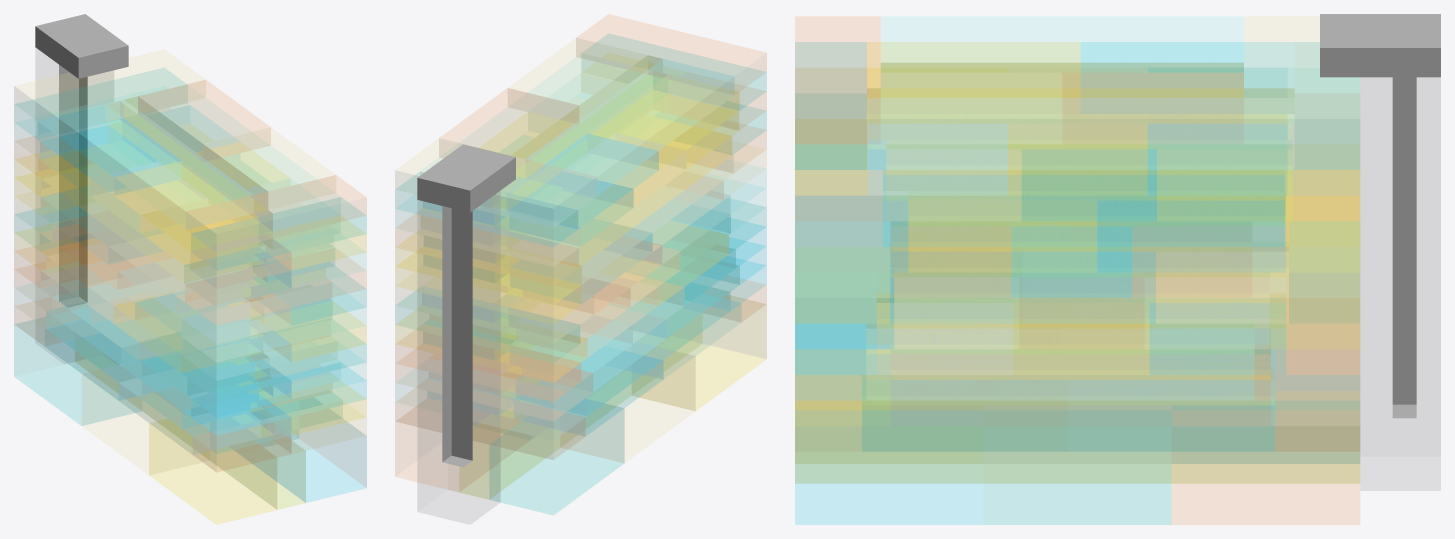
3 renders of one model, left to right at view 1: azimuth 30°, elevation 25°; view 2: azimuth 150°, elevation 25°; view 3: azimuth 270°, elevation 25°, orthographic. The views are drawn at different scales.
Parts seen in each view (by area): view 1: d6bcc796-8eb1-4275-b38c-7e1ae7b9081f, 39312863-c378-493c-ab47-adbc66ca83dc, 09ca25f9-c48a-4858-98ef-48218f22bfb5, 804fe2d3-644d-484e-a5a8-48df7c8f069e, 1cb9dffa-9140-4d39-8a2e-c1af6eddde46, 386f816b-cf43-49d8-a39e-41a9e235ea7f, ed6d6dc6-d384-403d-b9c6-eccdee08ae2e, 80eff2e0-196a-41a9-819a-aede1b1f4936, 09ee4b2f-a0ca-4d6d-b761-94ef8e5b71b7, 1bbbc076-2a21-4f47-8583-e8d5a2f533e4, 7970ebba-e139-4a52-92b2-1d9905a537d3, 2f60f142-cec5-430e-8371-8ec30528f1fe (+58 smaller); view 2: c1a381ad-1aca-42c7-b3f2-a8b5bd3cbd88, d6bcc796-8eb1-4275-b38c-7e1ae7b9081f, 2f60f142-cec5-430e-8371-8ec30528f1fe, 804fe2d3-644d-484e-a5a8-48df7c8f069e, 386f816b-cf43-49d8-a39e-41a9e235ea7f, ed6d6dc6-d384-403d-b9c6-eccdee08ae2e, 9db6b245-c1e5-4e94-bb24-9968bbcc9e62, 09ca25f9-c48a-4858-98ef-48218f22bfb5, 53e4c149-a1fc-42cb-9926-c9fa149d805c, 39312863-c378-493c-ab47-adbc66ca83dc, 80eff2e0-196a-41a9-819a-aede1b1f4936, 10a131d9-3317-4e59-9c11-94e98df846cb (+51 smaller); view 3: 28da632c-e8ac-496c-a448-f3cdc6eebb36, c1a381ad-1aca-42c7-b3f2-a8b5bd3cbd88, 0c4fc0ff-e170-487e-a579-40f05647c481, d6bcc796-8eb1-4275-b38c-7e1ae7b9081f, 4ef1046d-18e4-4ba9-abab-362bdab1b41c, 370e77a5-4c27-420a-8379-d809e4379d4d, 6de3195c-045e-43f1-87e4-a79d74b08657, 52638536-2ce4-413b-819f-79f3960046ff, a77ed0c8-b38b-4810-8638-82b72d0f5595, 36d8e450-8811-49c7-b480-f5eaed7d1f81, ed6d6dc6-d384-403d-b9c6-eccdee08ae2e, 80eff2e0-196a-41a9-819a-aede1b1f4936 (+53 smaller).
Part boxes in pixels (<box>): d6bcc796-8eb1-4275-b38c-7e1ae7b9081f: <box>56,100,253,228</box>; 39312863-c378-493c-ab47-adbc66ca83dc: <box>14,50,205,133</box>; 09ca25f9-c48a-4858-98ef-48218f22bfb5: <box>149,419,276,524</box>; 804fe2d3-644d-484e-a5a8-48df7c8f069e: <box>186,175,366,251</box>; 1cb9dffa-9140-4d39-8a2e-c1af6eddde46: <box>191,197,366,269</box>; 386f816b-cf43-49d8-a39e-41a9e235ea7f: <box>59,65,87,307</box>; ed6d6dc6-d384-403d-b9c6-eccdee08ae2e: <box>203,128,335,208</box>; 80eff2e0-196a-41a9-819a-aede1b1f4936: <box>138,80,270,156</box>; 09ee4b2f-a0ca-4d6d-b761-94ef8e5b71b7: <box>181,331,366,398</box>; 1bbbc076-2a21-4f47-8583-e8d5a2f533e4: <box>182,294,366,361</box>; 7970ebba-e139-4a52-92b2-1d9905a537d3: <box>185,257,366,324</box>; 2f60f142-cec5-430e-8371-8ec30528f1fe: <box>14,320,133,425</box>; c1a381ad-1aca-42c7-b3f2-a8b5bd3cbd88: <box>418,192,499,524</box>; d6bcc796-8eb1-4275-b38c-7e1ae7b9081f: <box>526,59,733,195</box>; 2f60f142-cec5-430e-8371-8ec30528f1fe: <box>490,404,623,514</box>; 804fe2d3-644d-484e-a5a8-48df7c8f069e: <box>576,14,766,94</box>; 386f816b-cf43-49d8-a39e-41a9e235ea7f: <box>442,206,472,467</box>; ed6d6dc6-d384-403d-b9c6-eccdee08ae2e: <box>508,38,647,122</box>; 9db6b245-c1e5-4e94-bb24-9968bbcc9e62: <box>588,79,738,169</box>; 09ca25f9-c48a-4858-98ef-48218f22bfb5: <box>640,300,766,410</box>; 53e4c149-a1fc-42cb-9926-c9fa149d805c: <box>569,352,694,462</box>; 39312863-c378-493c-ab47-adbc66ca83dc: <box>395,138,596,227</box>; 80eff2e0-196a-41a9-819a-aede1b1f4936: <box>439,88,578,159</box>; 10a131d9-3317-4e59-9c11-94e98df846cb: <box>507,134,658,228</box>; 28da632c-e8ac-496c-a448-f3cdc6eebb36: <box>867,98,1293,169</box>; c1a381ad-1aca-42c7-b3f2-a8b5bd3cbd88: <box>1361,78,1440,490</box>; 0c4fc0ff-e170-487e-a579-40f05647c481: <box>883,196,1283,246</box>; d6bcc796-8eb1-4275-b38c-7e1ae7b9081f: <box>881,17,1243,72</box>; 4ef1046d-18e4-4ba9-abab-362bdab1b41c: <box>891,375,1270,425</box>; 370e77a5-4c27-420a-8379-d809e4379d4d: <box>867,350,1253,399</box>; 6de3195c-045e-43f1-87e4-a79d74b08657: <box>795,427,982,524</box>; 52638536-2ce4-413b-819f-79f3960046ff: <box>1172,427,1359,524</box>; a77ed0c8-b38b-4810-8638-82b72d0f5595: <box>984,427,1170,524</box>; 36d8e450-8811-49c7-b480-f5eaed7d1f81: <box>795,452,1359,482</box>; ed6d6dc6-d384-403d-b9c6-eccdee08ae2e: <box>881,73,1061,143</box>; 80eff2e0-196a-41a9-819a-aede1b1f4936: <box>1063,73,1243,143</box>.
Size of the model in its own units: 30000 by 60500 by 80000.
